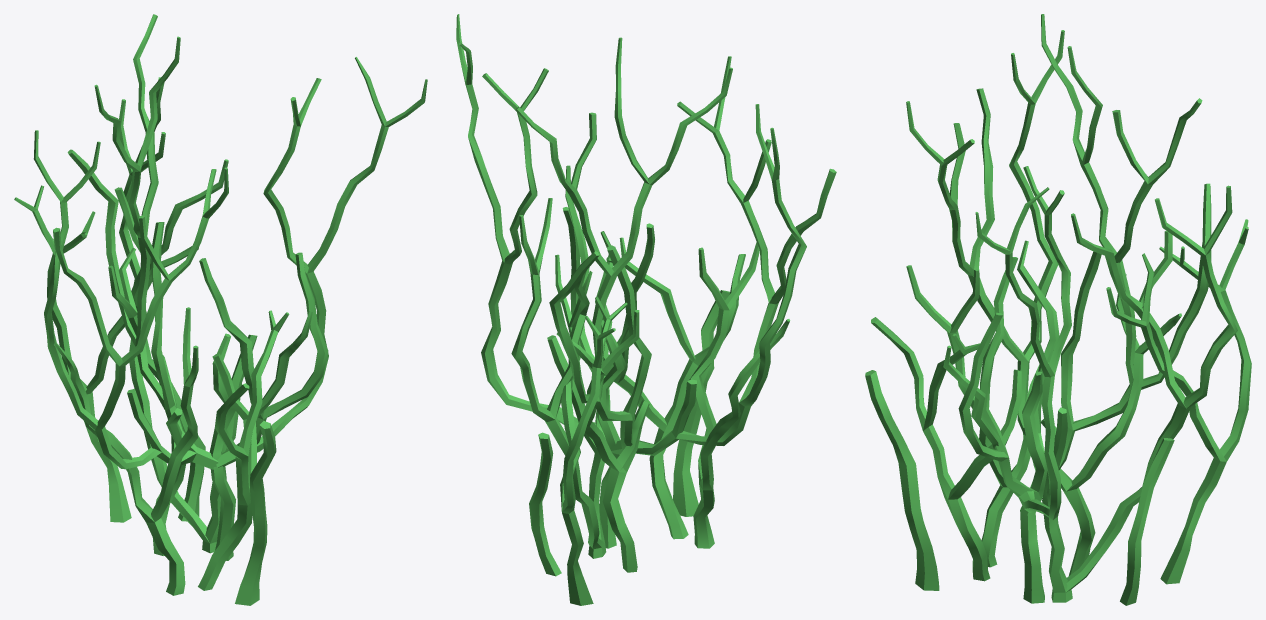
File: jungle_wiggle_tree_D.fbx
3 renders of one model, left to right at view 1: azimuth 30°, elevation 25°; view 2: azimuth 150°, elevation 25°; view 3: azimuth 270°, elevation 25°, orthographic. The views are drawn at different scales.
Visible parts, largest first — view 1: jungle_wiggle_tree_D_A, jungle_wiggle_tree_D_B, jungle_wiggle_tree_D_G, jungle_wiggle_tree_D_C, jungle_wiggle_tree_D_F, jungle_wiggle_tree_D_D, jungle_wiggle_tree_D_I, jungle_wiggle_tree_D_E, jungle_wiggle_tree_D_H, jungle_wiggle_tree_D_J; view 2: jungle_wiggle_tree_D_A, jungle_wiggle_tree_D_B, jungle_wiggle_tree_D_C, jungle_wiggle_tree_D_F, jungle_wiggle_tree_D_D, jungle_wiggle_tree_D_G, jungle_wiggle_tree_D_E, jungle_wiggle_tree_D_I, jungle_wiggle_tree_D_J, jungle_wiggle_tree_D_H; view 3: jungle_wiggle_tree_D_A, jungle_wiggle_tree_D_B, jungle_wiggle_tree_D_C, jungle_wiggle_tree_D_G, jungle_wiggle_tree_D_D, jungle_wiggle_tree_D_F, jungle_wiggle_tree_D_E, jungle_wiggle_tree_D_I, jungle_wiggle_tree_D_H, jungle_wiggle_tree_D_J.
Boxes of the visible parts, x1=… form: jungle_wiggle_tree_D_A: x1=33, y1=14, x2=228, y2=469; jungle_wiggle_tree_D_B: x1=199, y1=57, x2=427, y2=467; jungle_wiggle_tree_D_G: x1=198, y1=310, x2=312, y2=590; jungle_wiggle_tree_D_C: x1=114, y1=99, x2=257, y2=553; jungle_wiggle_tree_D_F: x1=53, y1=307, x2=198, y2=595; jungle_wiggle_tree_D_D: x1=14, y1=185, x2=198, y2=522; jungle_wiggle_tree_D_I: x1=235, y1=420, x2=276, y2=605; jungle_wiggle_tree_D_E: x1=108, y1=247, x2=185, y2=555; jungle_wiggle_tree_D_H: x1=209, y1=333, x2=235, y2=560; jungle_wiggle_tree_D_J: x1=159, y1=355, x2=205, y2=521; jungle_wiggle_tree_D_A: x1=515, y1=37, x2=836, y2=455; jungle_wiggle_tree_D_B: x1=456, y1=14, x2=654, y2=440; jungle_wiggle_tree_D_C: x1=511, y1=165, x2=606, y2=558; jungle_wiggle_tree_D_F: x1=689, y1=242, x2=790, y2=548; jungle_wiggle_tree_D_D: x1=555, y1=254, x2=627, y2=605; jungle_wiggle_tree_D_G: x1=595, y1=231, x2=745, y2=539; jungle_wiggle_tree_D_E: x1=556, y1=310, x2=649, y2=572; jungle_wiggle_tree_D_I: x1=673, y1=290, x2=729, y2=516; jungle_wiggle_tree_D_J: x1=529, y1=432, x2=561, y2=576; jungle_wiggle_tree_D_H: x1=596, y1=319, x2=626, y2=548; jungle_wiggle_tree_D_A: x1=906, y1=14, x2=1211, y2=498; jungle_wiggle_tree_D_B: x1=958, y1=166, x2=1071, y2=519; jungle_wiggle_tree_D_C: x1=1042, y1=185, x2=1237, y2=602; jungle_wiggle_tree_D_G: x1=871, y1=317, x2=1021, y2=581; jungle_wiggle_tree_D_D: x1=1106, y1=219, x2=1251, y2=584; jungle_wiggle_tree_D_F: x1=906, y1=240, x2=1059, y2=567; jungle_wiggle_tree_D_E: x1=1040, y1=274, x2=1181, y2=575; jungle_wiggle_tree_D_I: x1=865, y1=370, x2=939, y2=590; jungle_wiggle_tree_D_H: x1=1020, y1=371, x2=1047, y2=603; jungle_wiggle_tree_D_J: x1=1120, y1=438, x2=1174, y2=605.
Size of the model in its own units: 603 by 798 by 519.
